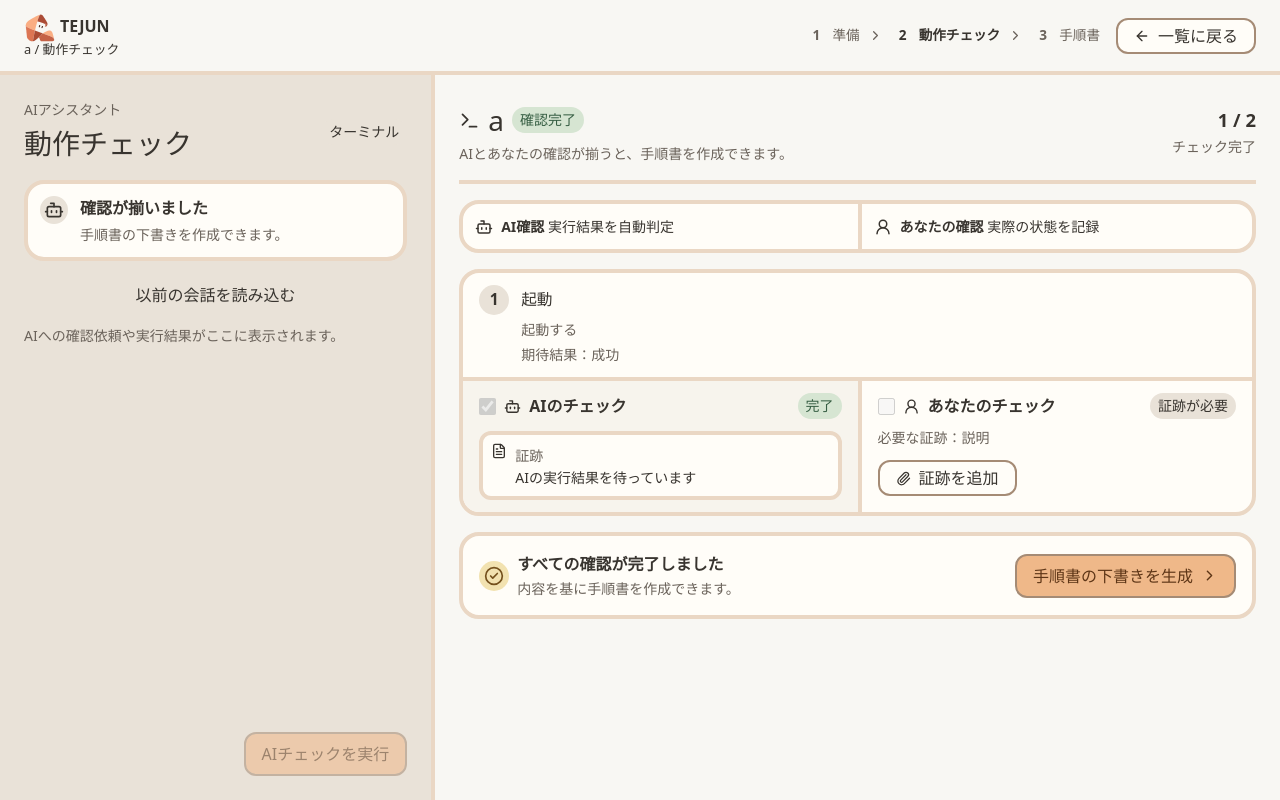
Test: ExecutionRoute › 50件を超える会話をcursorで読み込む
The width and height of the screenshot is (1280, 800).
Expected: the heading "a" is shown, left=488, top=99, right=504, bottom=141
Click the button "以前の会話を読み込む".
click(216, 295)  # box left=24, top=277, right=407, bottom=313
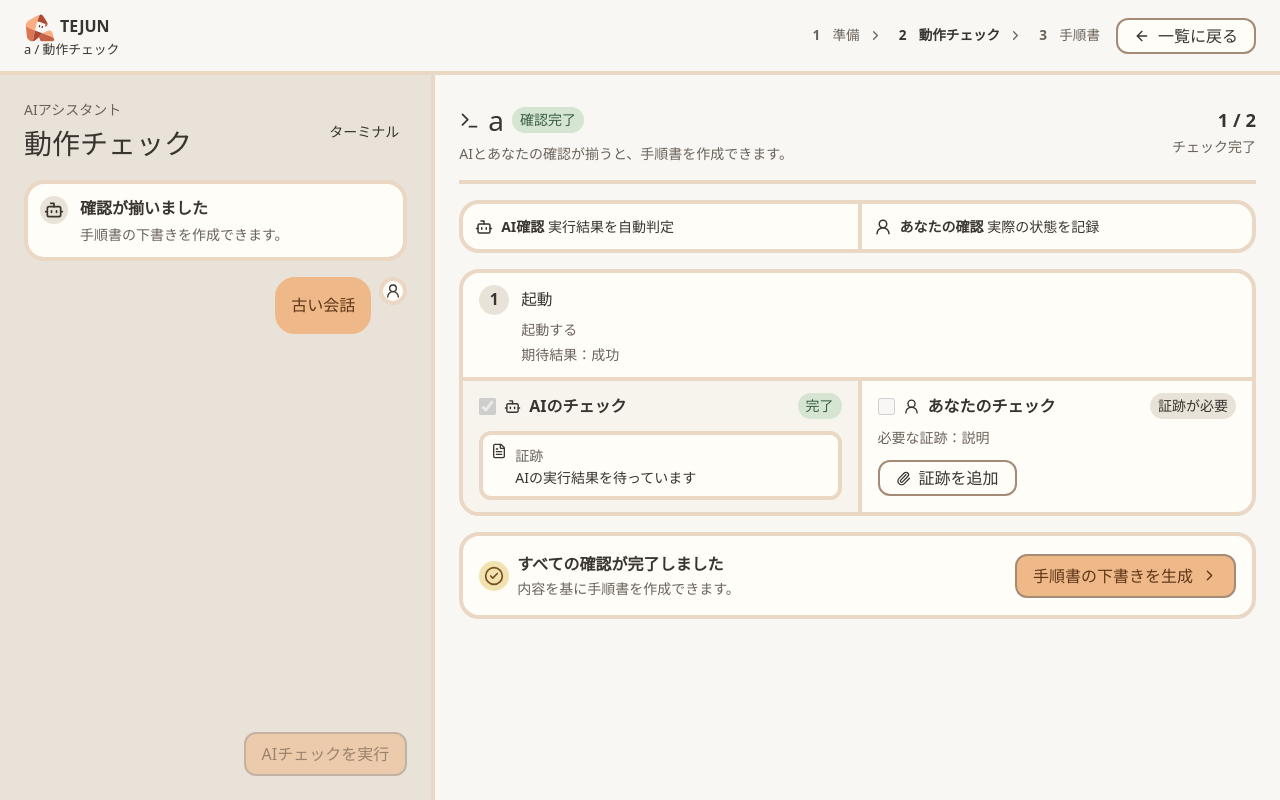
Expected: the text "古い会話" is shown, left=291, top=293, right=355, bottom=318
